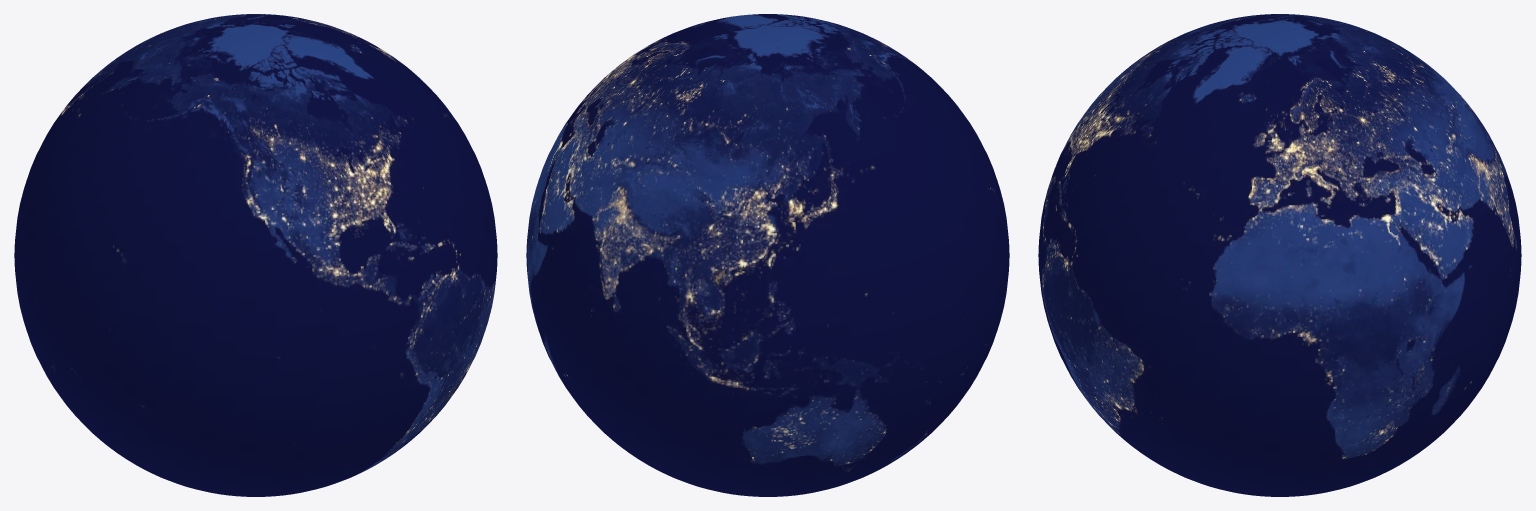
File: earth.glb
3 renders of one model, left to right at view 1: azimuth 30°, elevation 25°; view 2: azimuth 150°, elevation 25°; view 3: azimuth 270°, elevation 25°, orthographic.
Visible parts, largest first — view 1: earth; view 2: earth; view 3: earth.
Boxes of the visible parts, x1,y1,x2,y2 form: earth: (14,14,497,496); earth: (526,14,1009,496); earth: (1038,14,1521,496).
Bounding box in the file's own units: 2 × 2 × 2.
1 material, 1 textured.
